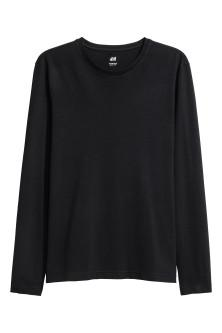teeshirt: (8, 36, 217, 306)
